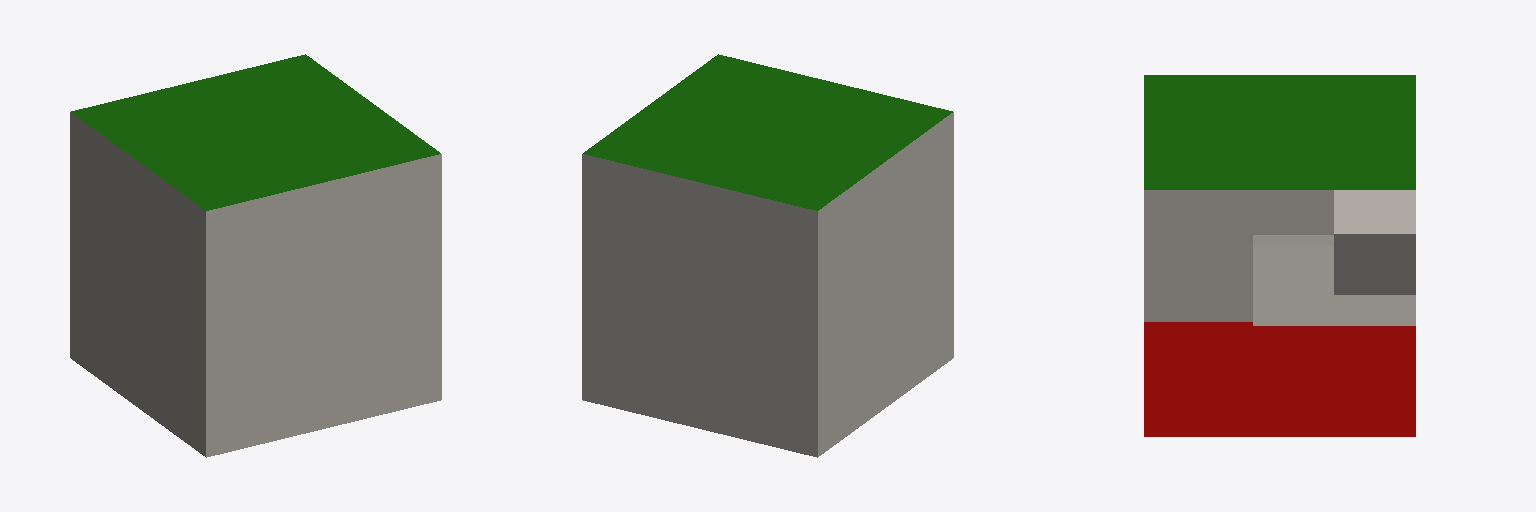
Rendered from CornellBox.obj.
3 views of the same model, side by side, from view 1: azimuth 30°, elevation 25°; view 2: azimuth 150°, elevation 25°; view 3: azimuth 270°, elevation 25° (orthographic).
Parts seen in each view (by area): view 1: CornellBox-Original; view 2: CornellBox-Original; view 3: CornellBox-Original.
Part boxes in pixels (left/top/right/bottom): CornellBox-Original: left=70, top=54, right=441, bottom=457; CornellBox-Original: left=582, top=54, right=953, bottom=457; CornellBox-Original: left=1144, top=75, right=1415, bottom=436.
Size of the model in its own units: 2 by 2 by 2.